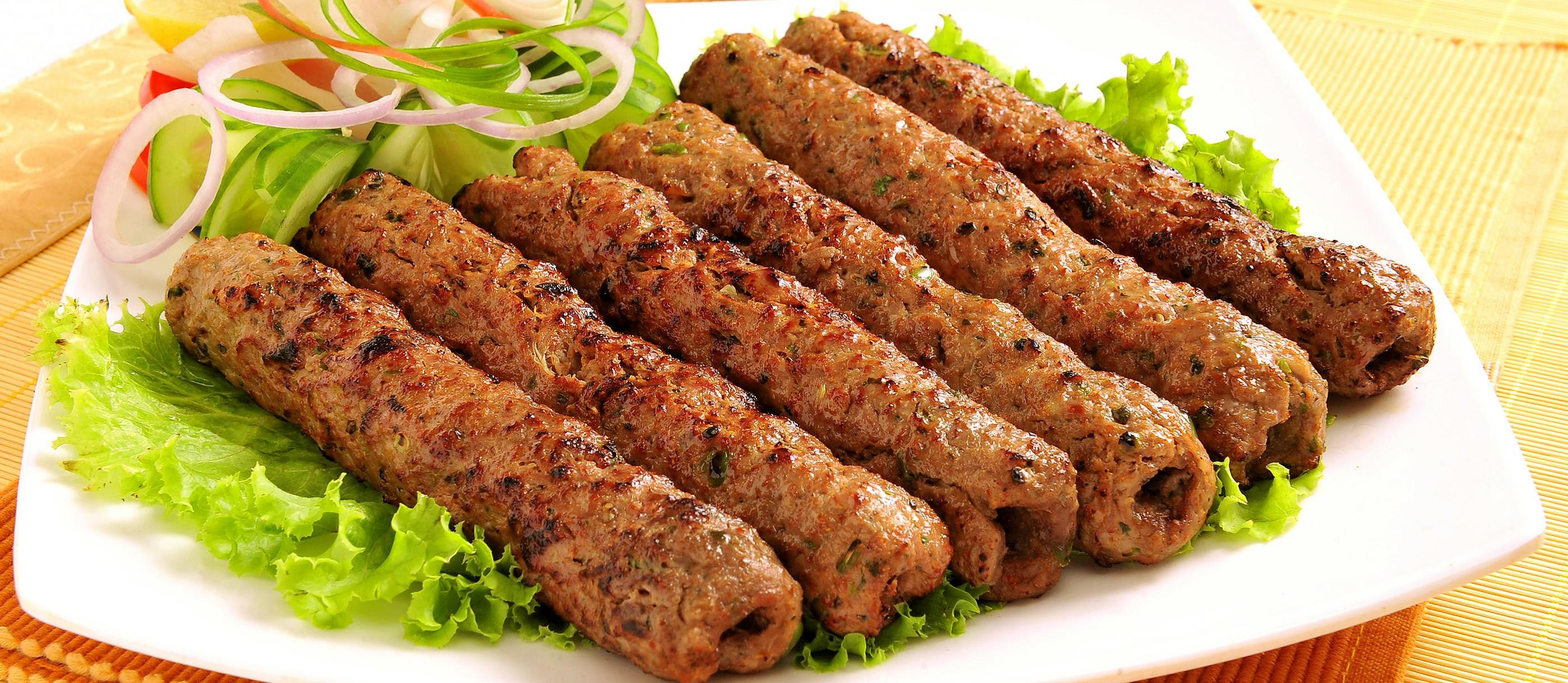Kebab: (301, 166, 951, 644), (676, 34, 1327, 485), (165, 226, 804, 681), (589, 99, 1212, 563), (460, 146, 1079, 605), (785, 8, 1434, 403)
